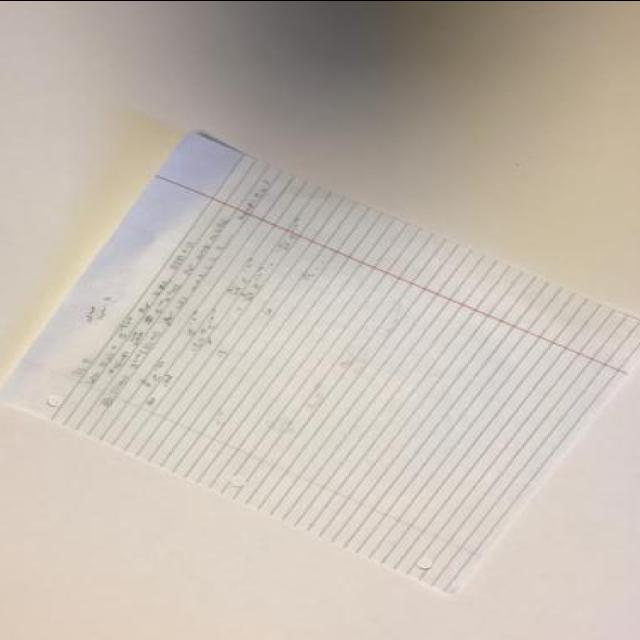kertas: (0, 132, 640, 597)
